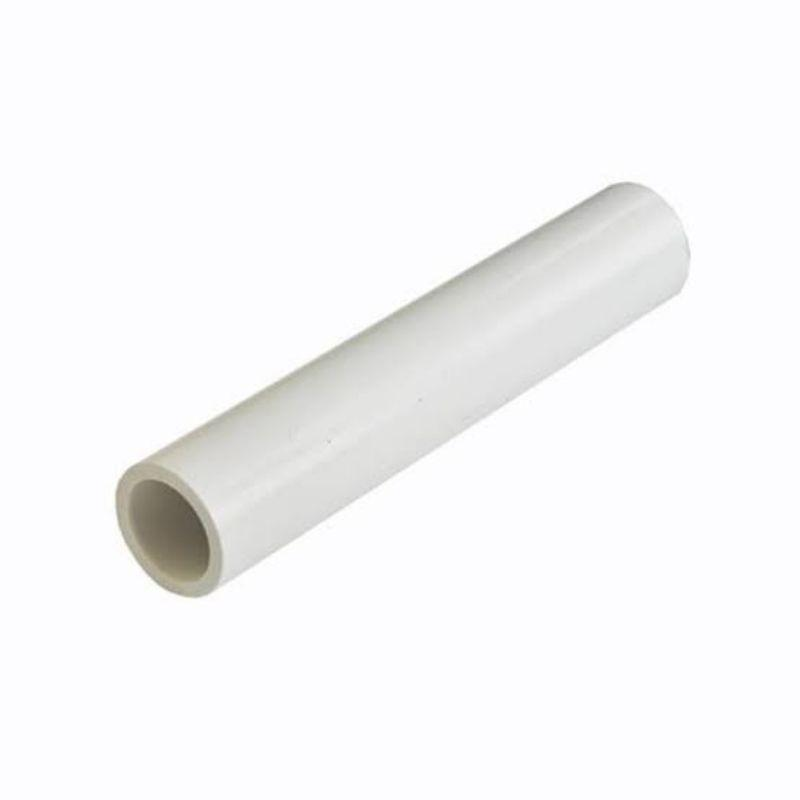PVC: (8, 108, 800, 746)
